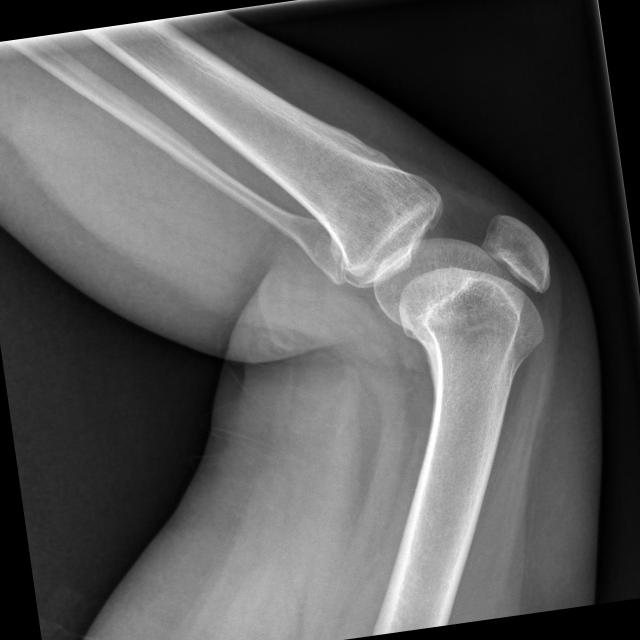Knee: (306, 158, 572, 378)
